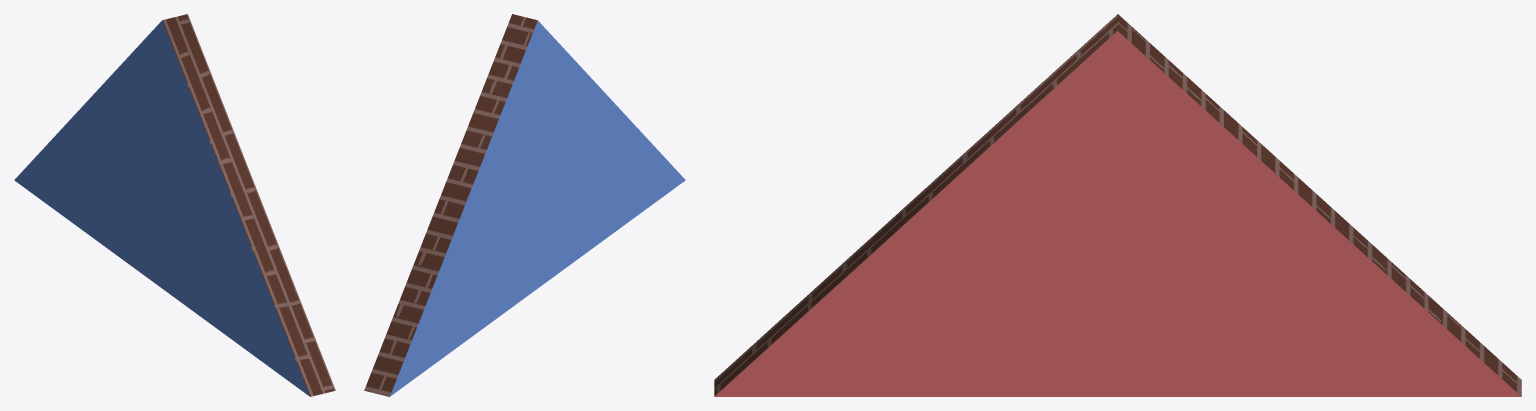
File: wall5_10x5.FBX
3 views of the same model, side by side, from view 1: azimuth 30°, elevation 25°; view 2: azimuth 150°, elevation 25°; view 3: azimuth 270°, elevation 25° (orthographic). The views are drawn at different scales.
Parts seen in each view (by area): view 1: wall5_10x5; view 2: wall5_10x5; view 3: wall5_10x5.
Boxes of the visible parts, x1,y1,x2,y2 form: wall5_10x5: (14, 14, 335, 396); wall5_10x5: (364, 14, 685, 396); wall5_10x5: (714, 14, 1521, 396).
Bounding box in the file's own units: 50 × 500 × 1000.
3 materials, 1 textured.
